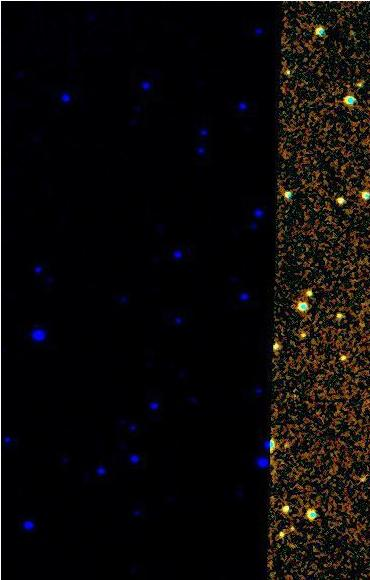star: (279, 513, 309, 543)
